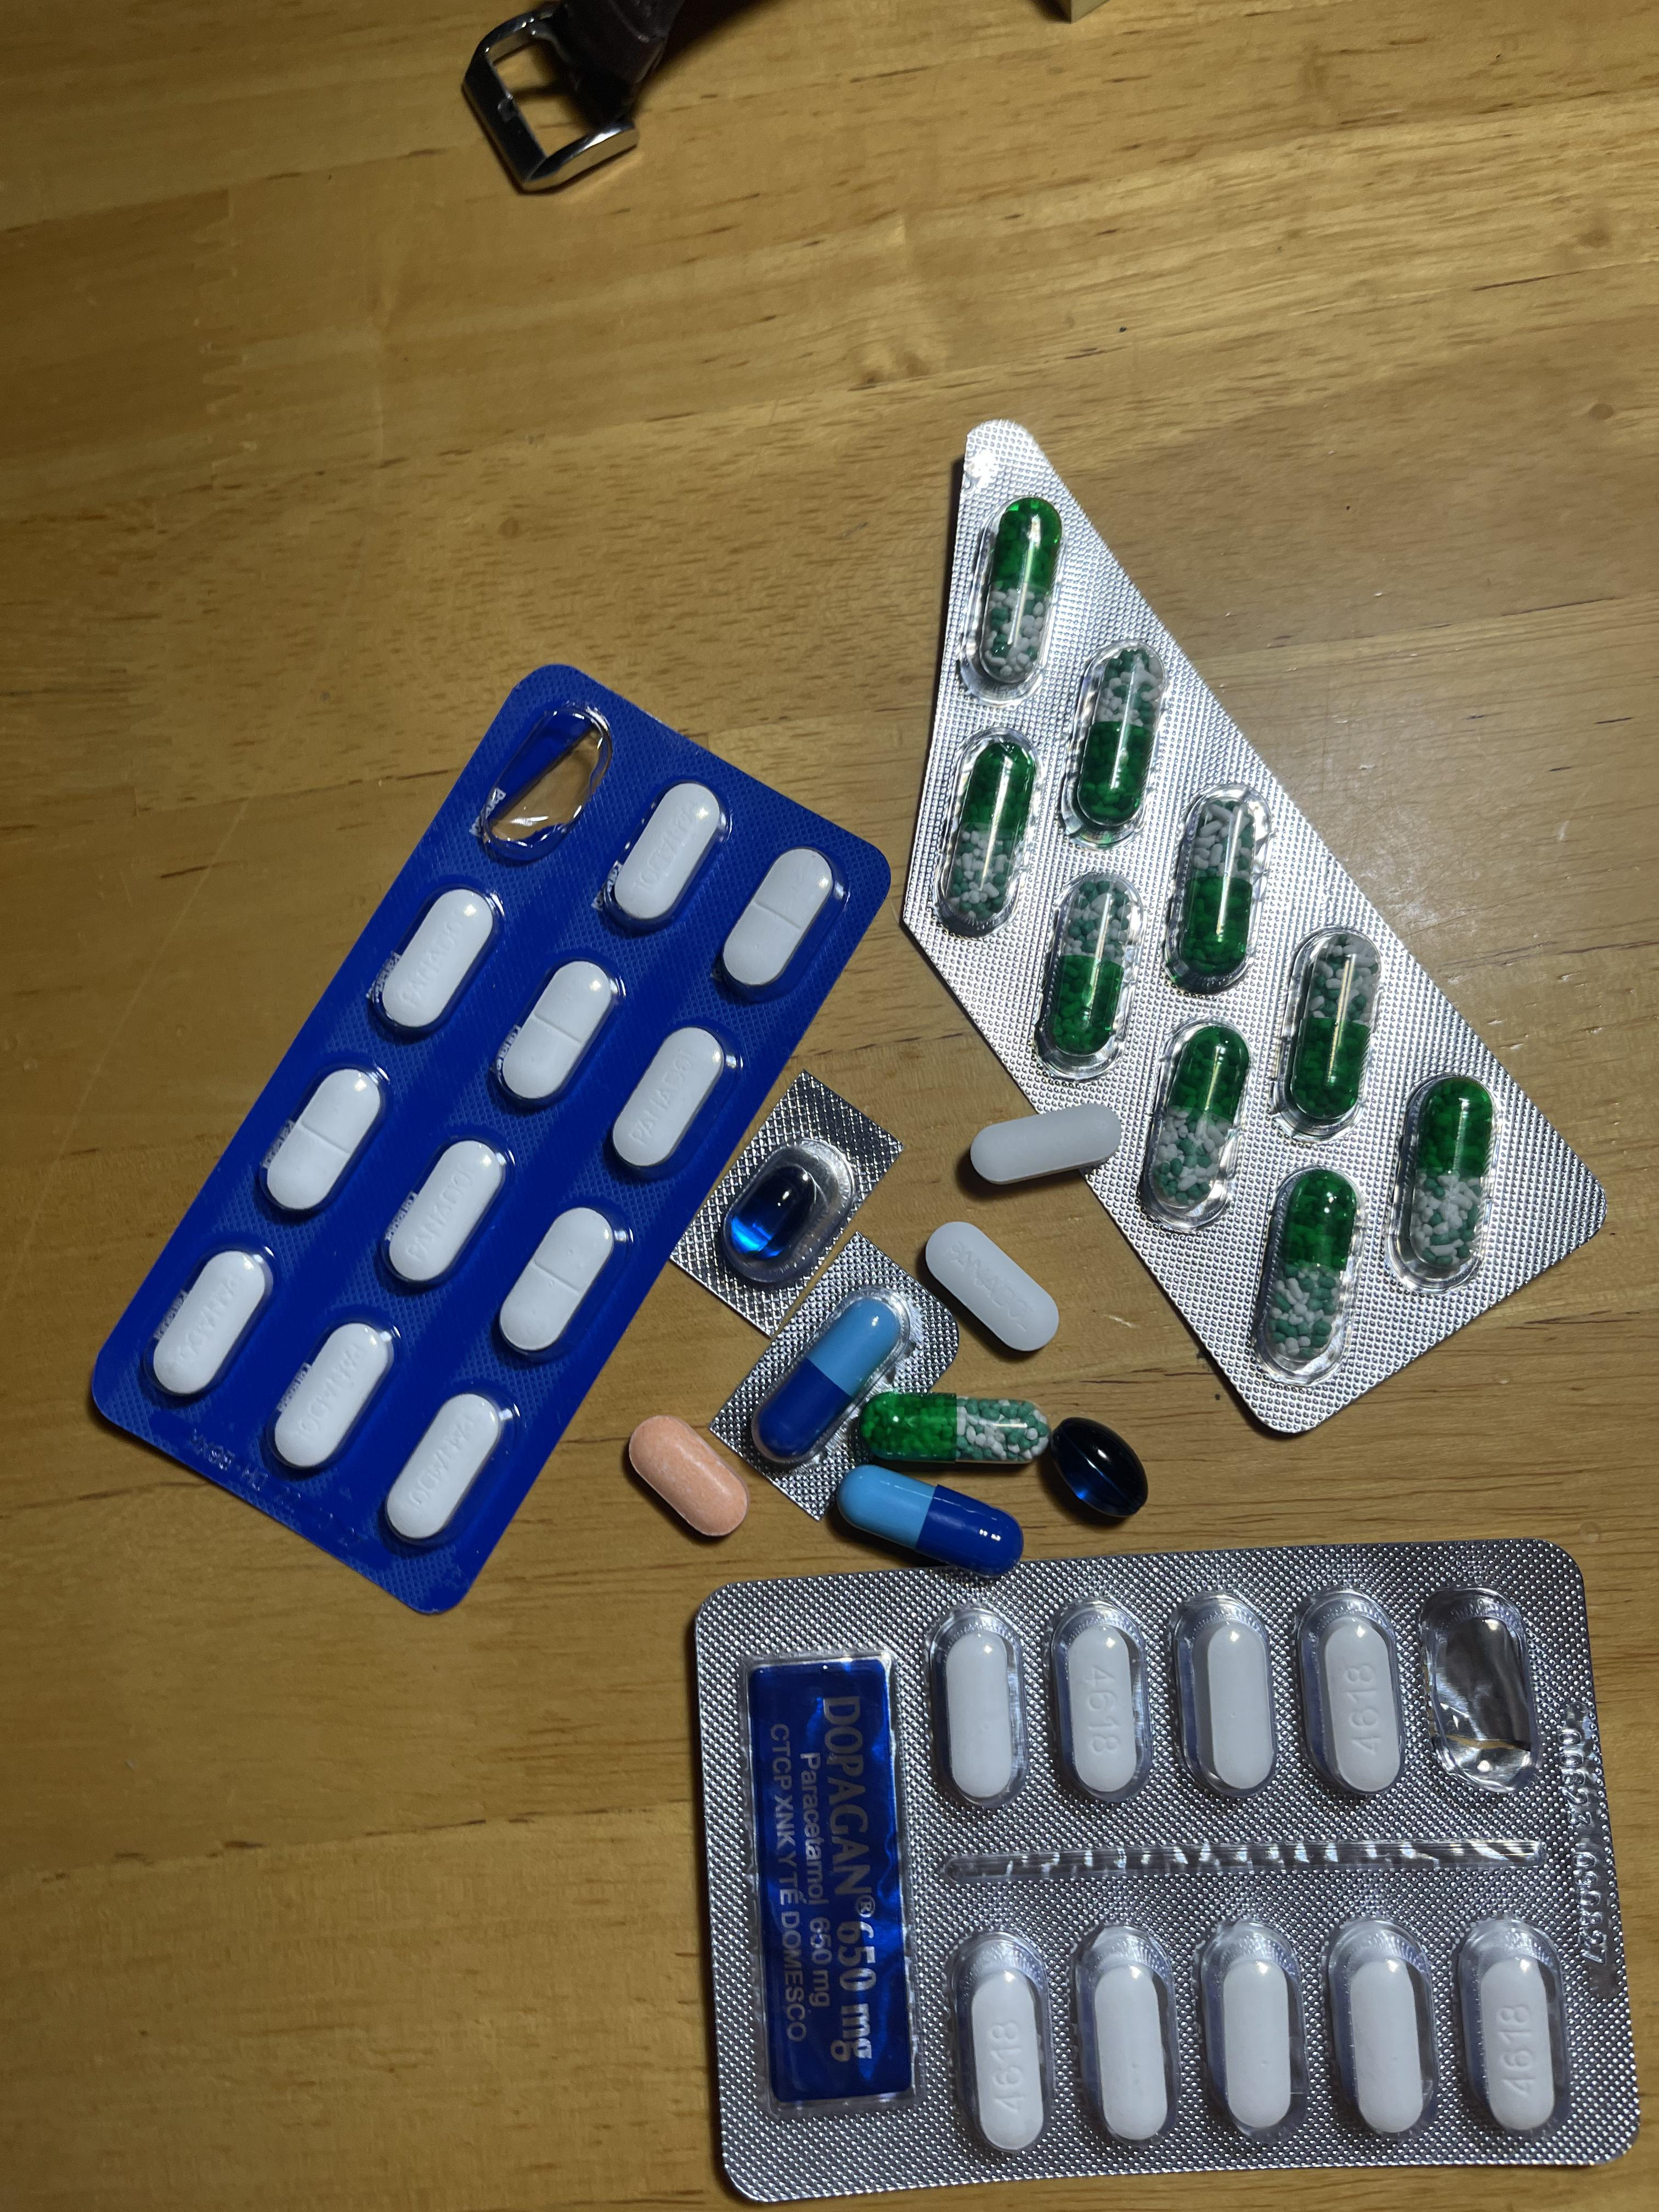Lincomyxin_500mg: (1046, 1414, 1150, 1521), (727, 1163, 812, 1256)
Loratadine_10mg: (626, 1414, 753, 1538)
Paracetamol_350mg: (272, 1318, 397, 1475), (382, 1137, 509, 1287), (605, 780, 728, 932), (265, 1062, 387, 1214), (150, 1249, 272, 1400), (385, 1393, 505, 1547), (375, 888, 500, 1035), (498, 1205, 619, 1355), (922, 1224, 1060, 1355), (610, 1028, 730, 1176), (720, 846, 836, 998), (498, 960, 619, 1106)
Paracetamol_500mg: (1453, 1916, 1570, 2139), (1326, 1916, 1439, 2137), (948, 1928, 1054, 2151), (1297, 1587, 1408, 1797), (1175, 1588, 1279, 1797), (1049, 1599, 1150, 1801), (1089, 1958, 1168, 2141), (1218, 1949, 1295, 2134), (967, 1103, 1115, 1191), (945, 1627, 1016, 1799)
Paracetamol_650mg: (1249, 1167, 1366, 1385), (1267, 927, 1380, 1136), (1389, 1075, 1497, 1289), (1138, 1024, 1249, 1230), (1033, 874, 1141, 1069), (1162, 787, 1270, 982), (936, 733, 1042, 923), (1063, 644, 1169, 829), (972, 500, 1061, 697), (859, 1392, 1047, 1465)
pill: (753, 1280, 908, 1465), (840, 1472, 1021, 1569)
